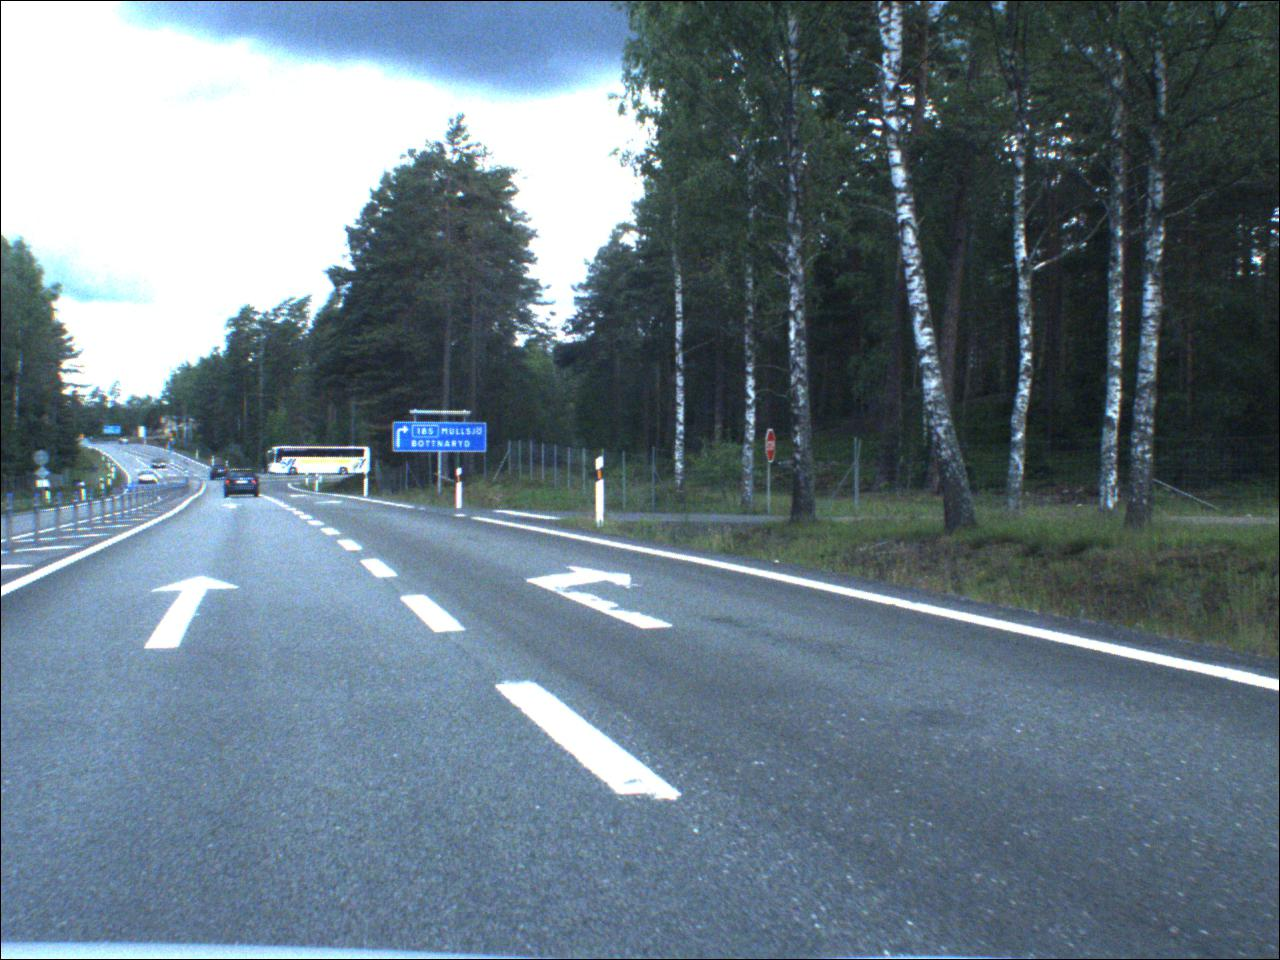STOP: (766, 429, 781, 466)
